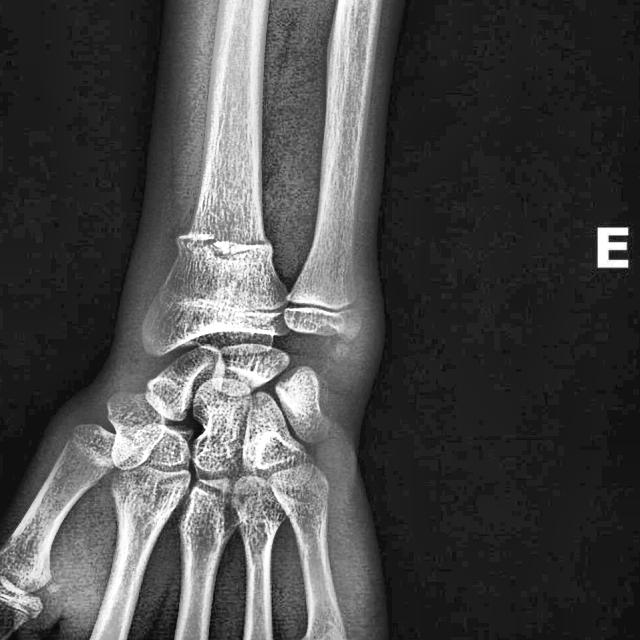line: (176, 230, 274, 254)
